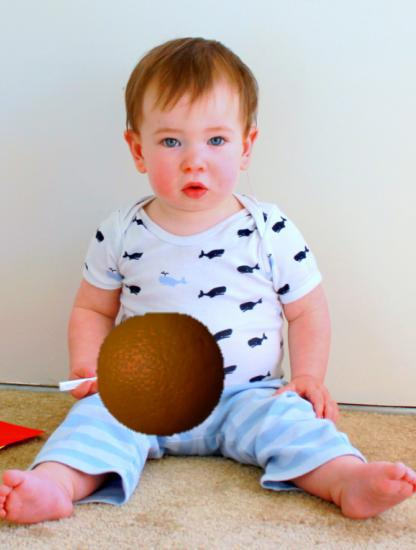Orange: (94, 308, 228, 442)
